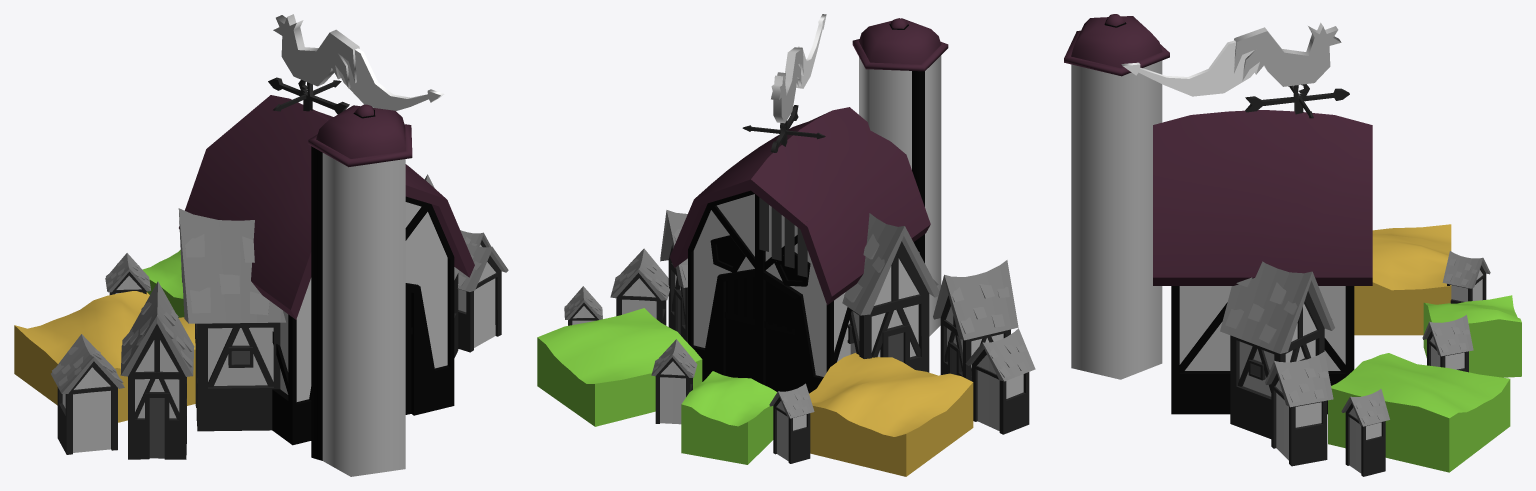
The model's file is hugeTown.glb.
The picture shows the model from 3 angles, left to right: view 1: azimuth 30°, elevation 25°; view 2: azimuth 150°, elevation 25°; view 3: azimuth 270°, elevation 25°; orthographic projection. The views are drawn at different scales.
Parts seen in each view (by area): view 1: Cube.041; view 2: Cube.041; view 3: Cube.041.
Part boxes in pixels (left/top/right/bottom): Cube.041: left=14, top=14, right=508, bottom=476; Cube.041: left=537, top=14, right=1035, bottom=476; Cube.041: left=1064, top=14, right=1521, bottom=476.
Bounding box in the file's own units: 5.97 × 4.24 × 5.01.
Materials: 1 (1 with a texture image).
